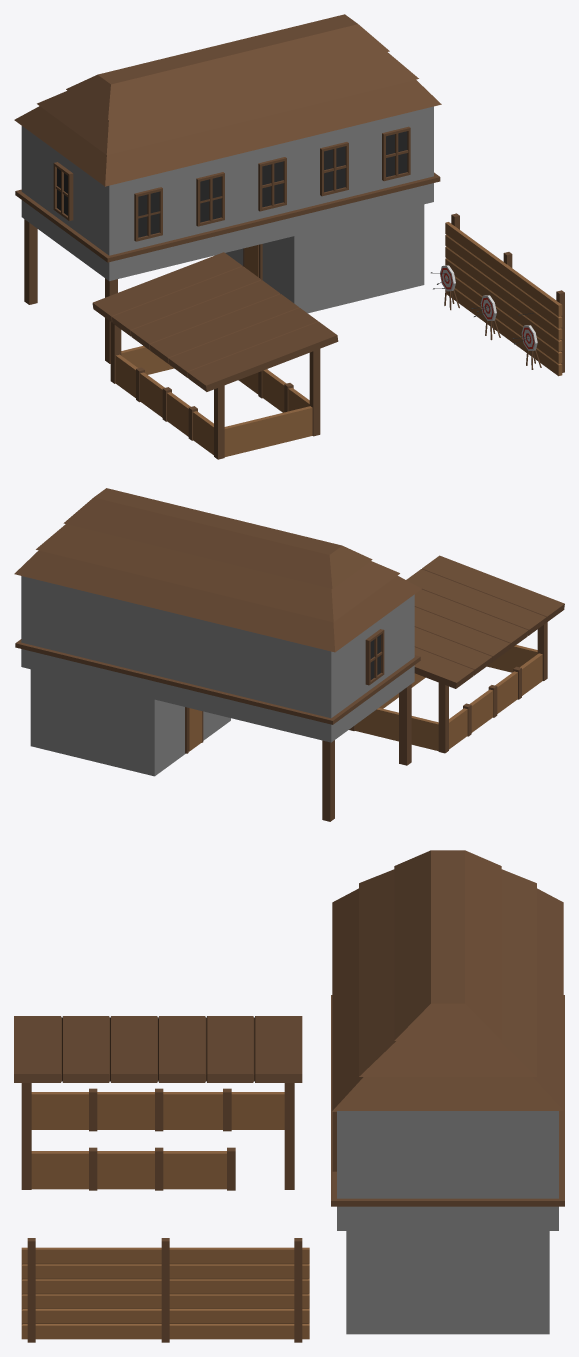
File: ArcheryRange_mat.fbx
3 views of the same model, one above another, from view 1: azimuth 30°, elevation 25°; view 2: azimuth 150°, elevation 25°; view 3: azimuth 270°, elevation 25° (orthographic). The views are drawn at different scales.
Visible parts, largest first — view 1: ArcheryRange_mat; view 2: ArcheryRange_mat; view 3: ArcheryRange_mat.
Boxes of the visible parts, box(x1,y1,x2,y2) form: ArcheryRange_mat: box(14, 14, 564, 459); ArcheryRange_mat: box(14, 488, 564, 821); ArcheryRange_mat: box(14, 850, 564, 1342).
Bounding box in the file's own units: 701 × 450 × 723.
